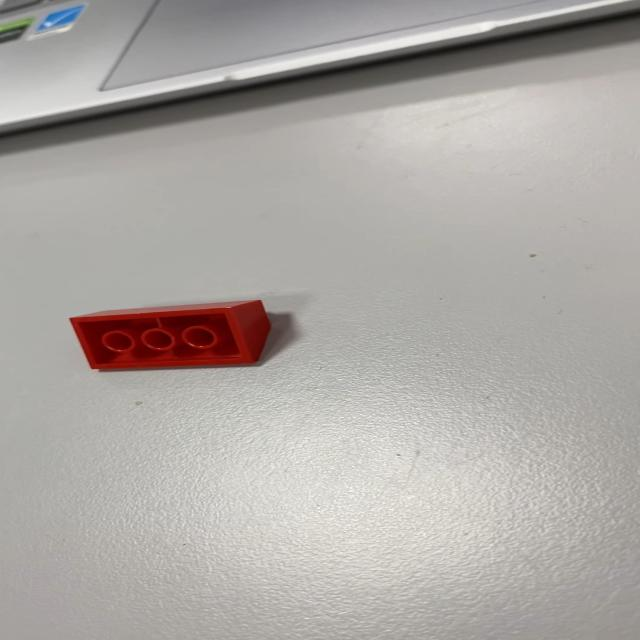P4x2x1: (68, 298, 272, 371)
